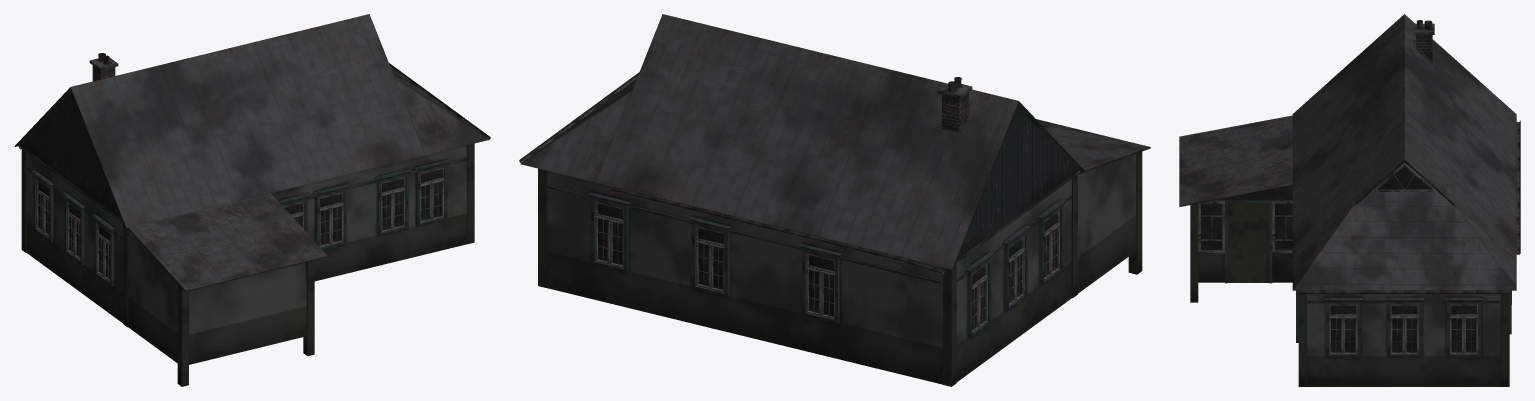
The model's file is house.glb.
The picture shows the model from 3 angles, left to right: view 1: azimuth 30°, elevation 25°; view 2: azimuth 150°, elevation 25°; view 3: azimuth 270°, elevation 25°; orthographic projection. The views are drawn at different scales.
Parts seen in each view (by area): view 1: roof_roof_0_roof, walls _walls_0, big window.010_windows_0, big window.009_windows_0, big window.011_windows_0, big window.004_windows_0, big window.005_windows_0, big window.003_windows_0, big window.012_windows_0, chimney_details_0, drain pipe_details_0; view 2: roof_roof_0_roof, walls _walls_0, big window.007_windows_0, big window.008_windows_0, big window.006_windows_0, drain pipe_details_0, big window.003_windows_0, big window.005_windows_0, big window.004_windows_0, chimney_details_0; view 3: roof_roof_0_roof, walls _walls_0, door_windows_0, big window.002_windows_0, big window_windows_0, big window.001_windows_0, drain pipe_details_0, small window.002_windows_0, small window_windows_0, roof window_windows_0, chimney_details_0.
Part boxes in pixels (<box>): roof_roof_0_roof: <box>14,14,488,291</box>; walls _walls_0: <box>21,143,474,386</box>; big window.010_windows_0: <box>375,169,411,236</box>; big window.009_windows_0: <box>414,160,450,227</box>; big window.011_windows_0: <box>313,184,349,250</box>; big window.004_windows_0: <box>62,192,85,265</box>; big window.005_windows_0: <box>31,170,54,242</box>; big window.003_windows_0: <box>91,214,114,286</box>; big window.012_windows_0: <box>278,194,310,233</box>; chimney_details_0: <box>89,53,118,81</box>; drain pipe_details_0: <box>18,63,490,149</box>; roof_roof_0_roof: <box>520,14,1150,269</box>; walls _walls_0: <box>538,151,1142,386</box>; big window.007_windows_0: <box>688,217,731,297</box>; big window.008_windows_0: <box>799,244,842,324</box>; big window.006_windows_0: <box>587,192,630,272</box>; drain pipe_details_0: <box>519,72,944,274</box>; big window.003_windows_0: <box>1038,199,1066,286</box>; big window.005_windows_0: <box>966,252,993,339</box>; big window.004_windows_0: <box>1002,225,1030,312</box>; chimney_details_0: <box>938,77,972,134</box>; roof_roof_0_roof: <box>1179,14,1516,290</box>; walls _walls_0: <box>1190,186,1509,386</box>; door_windows_0: <box>1225,200,1272,283</box>; big window.002_windows_0: <box>1444,298,1483,357</box>; big window_windows_0: <box>1323,298,1362,357</box>; big window.001_windows_0: <box>1385,298,1424,357</box>; drain pipe_details_0: <box>1297,120,1520,294</box>; small window.002_windows_0: <box>1198,200,1224,253</box>; small window_windows_0: <box>1272,200,1292,253</box>; roof window_windows_0: <box>1372,163,1437,191</box>; chimney_details_0: <box>1413,20,1434,64</box>.
Bounding box in the file's own units: 12 × 7.39 × 9.7.
Materials: 4 (4 with a texture image).
